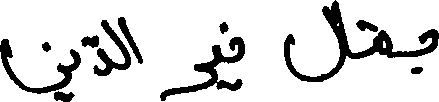ا: (128, 26, 143, 68), (343, 22, 349, 66)
ج: (404, 27, 437, 74)
د: (92, 46, 109, 76)
ر: (163, 64, 216, 100)
ل: (281, 0, 344, 82), (109, 14, 130, 73)
م: (374, 24, 389, 58)
ن: (0, 37, 70, 93), (221, 24, 244, 64)
ى: (213, 42, 228, 90)
ي: (63, 38, 80, 100)
